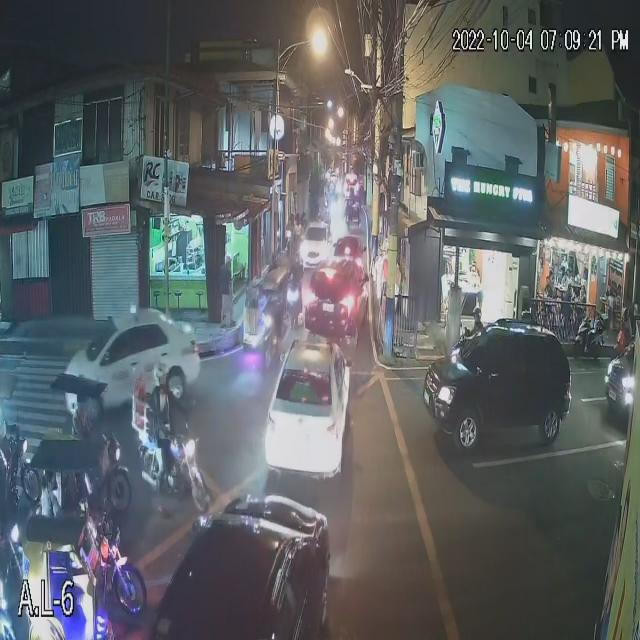helmet: (156, 375, 173, 390)
motorcycle: (137, 418, 213, 515), (573, 315, 613, 356), (283, 283, 304, 330)
rider: (145, 388, 185, 483)
